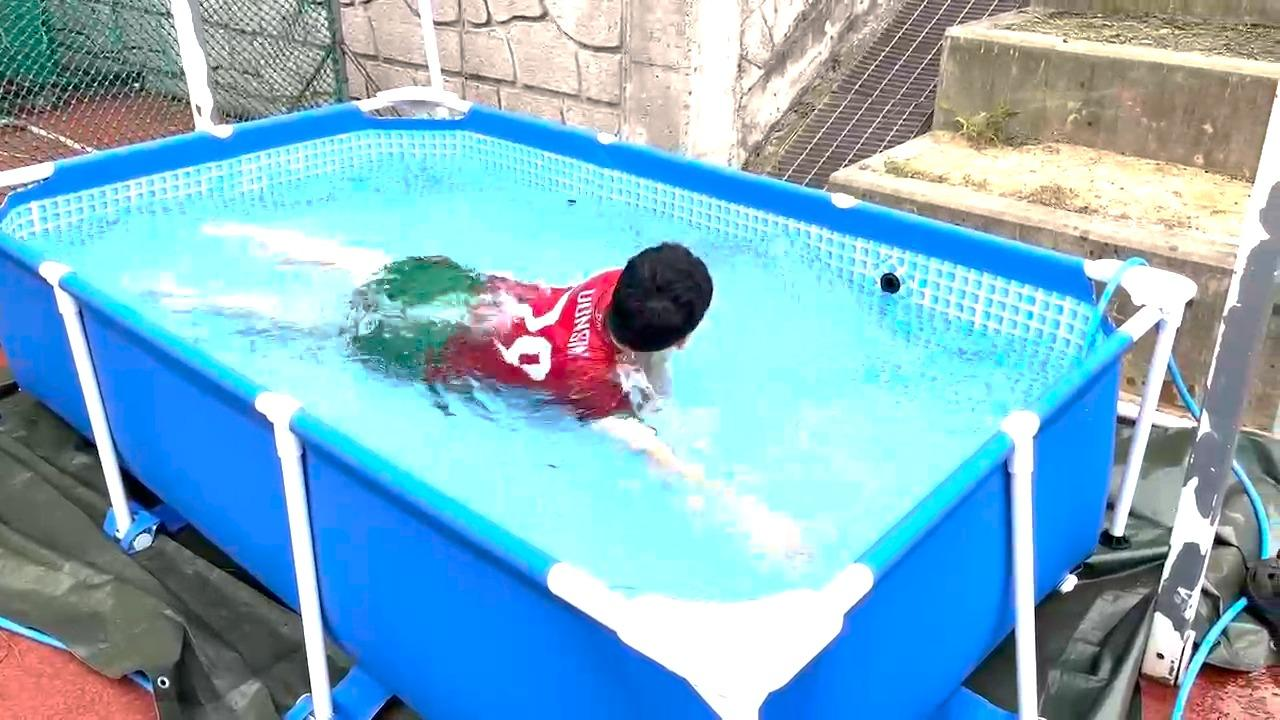Swimming: (163, 167, 882, 589)
